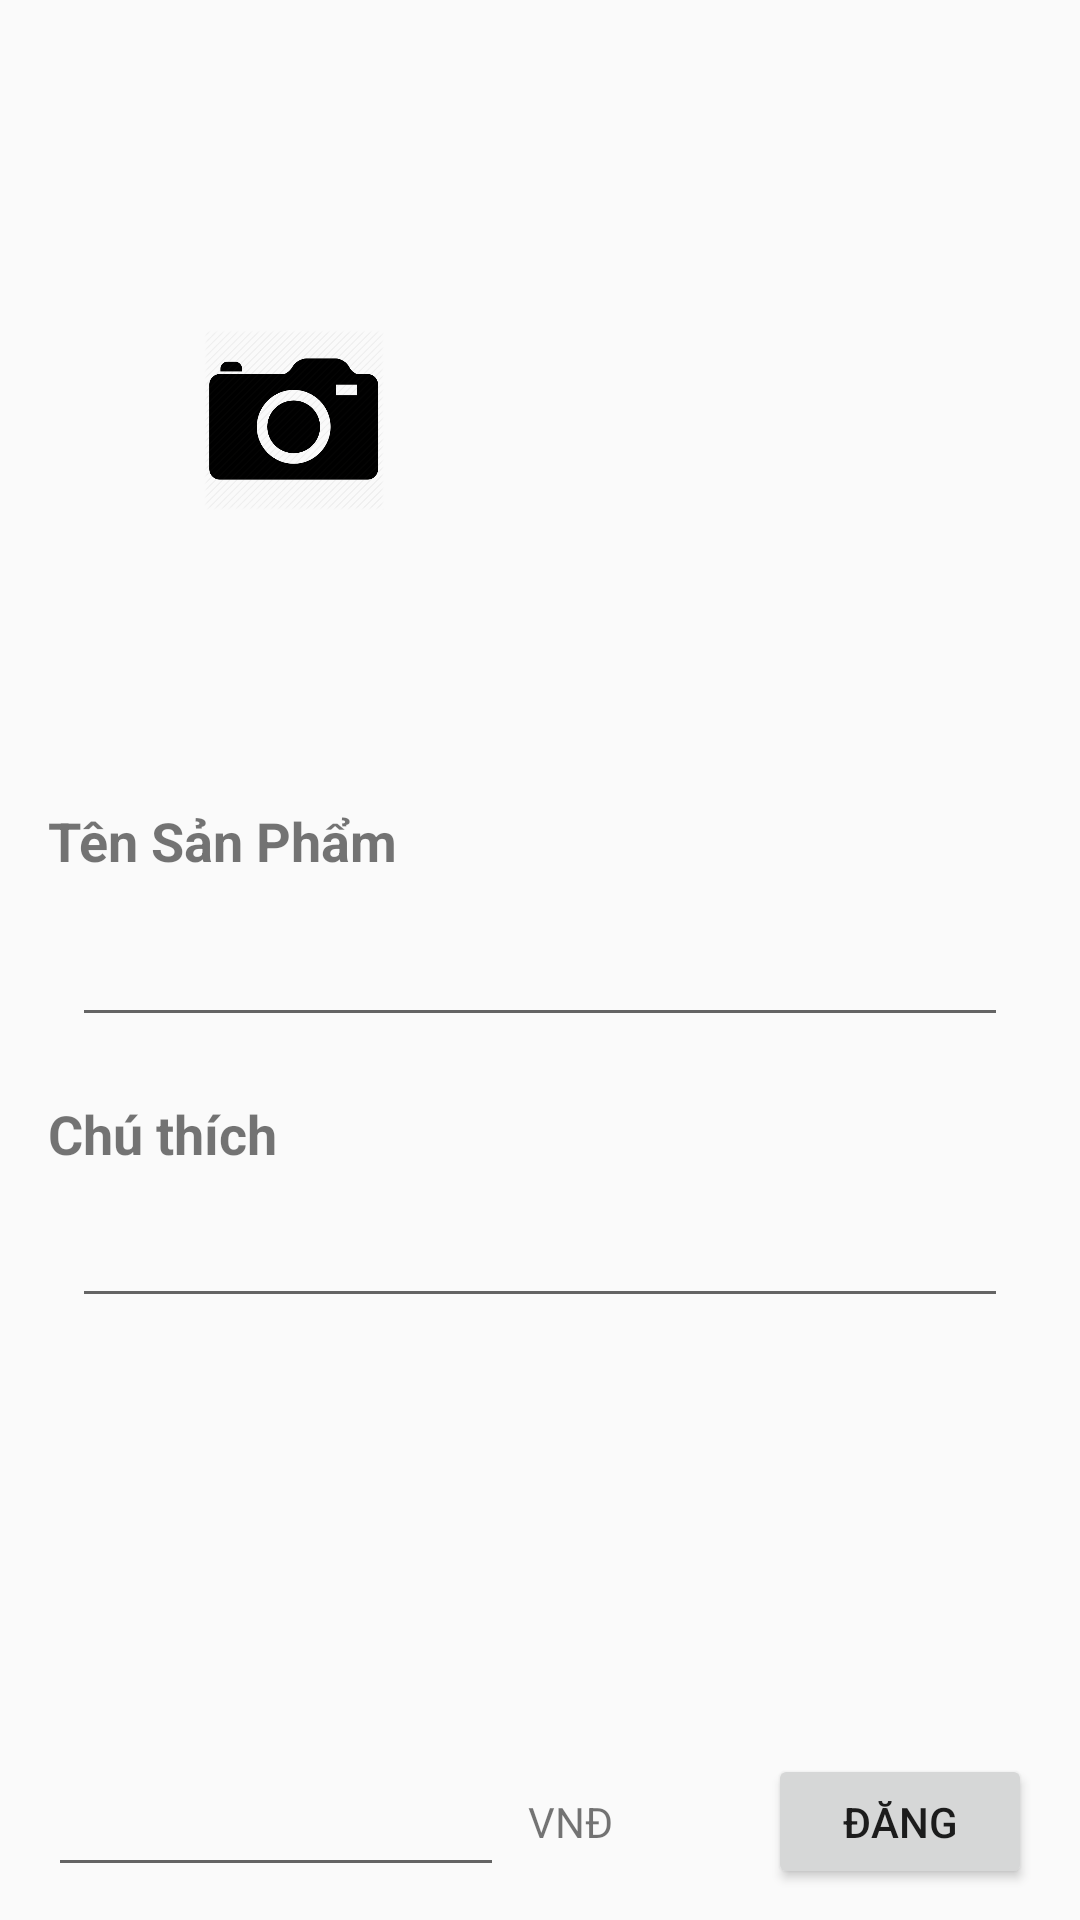

Named icons in this screenshot (1080px×1920px) and their centers, [x,y]:
camera: [293,419]
